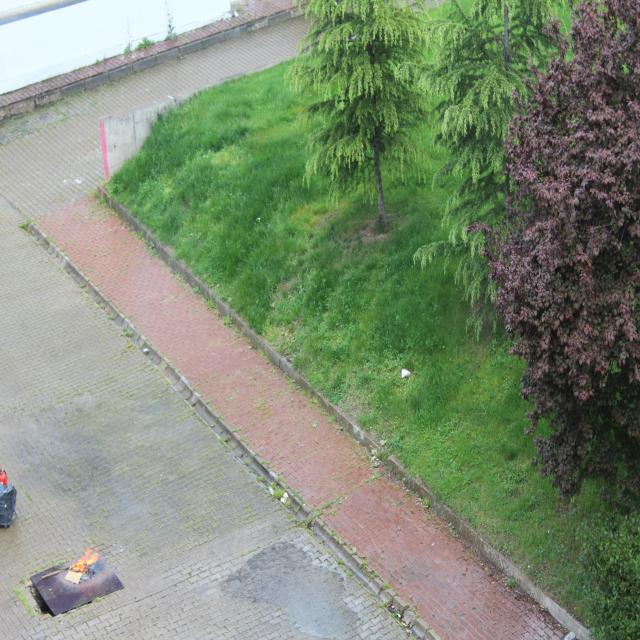fire: (69, 542, 101, 573)
